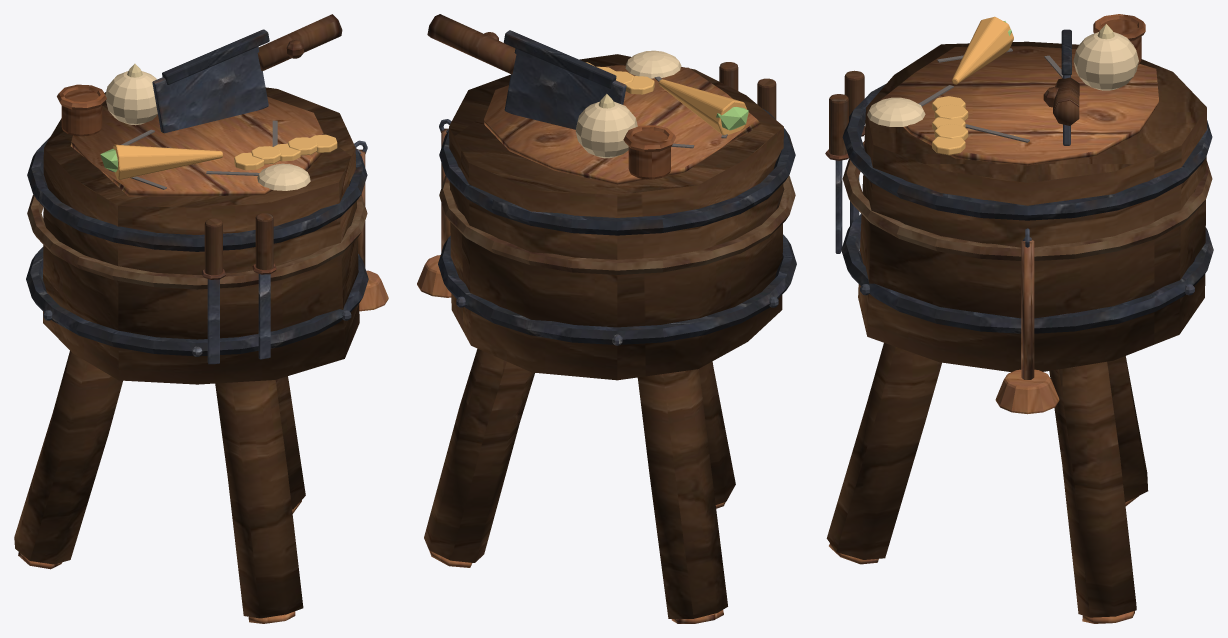
File: kitchen_block.glb
The picture shows the model from 3 angles, left to right: view 1: azimuth 30°, elevation 25°; view 2: azimuth 150°, elevation 25°; view 3: azimuth 270°, elevation 25°; orthographic projection. The views are drawn at different scales.
Parts seen in each view (by area): view 1: model; view 2: model; view 3: model.
Boxes of the visible parts, x1,y1,x2,y2 form: model: [14, 14, 388, 623]; model: [417, 14, 796, 623]; model: [825, 14, 1213, 623].
Bounding box in the file's own units: 0.6521 × 0.9132 × 0.5926.
16 materials, 10 textured.
